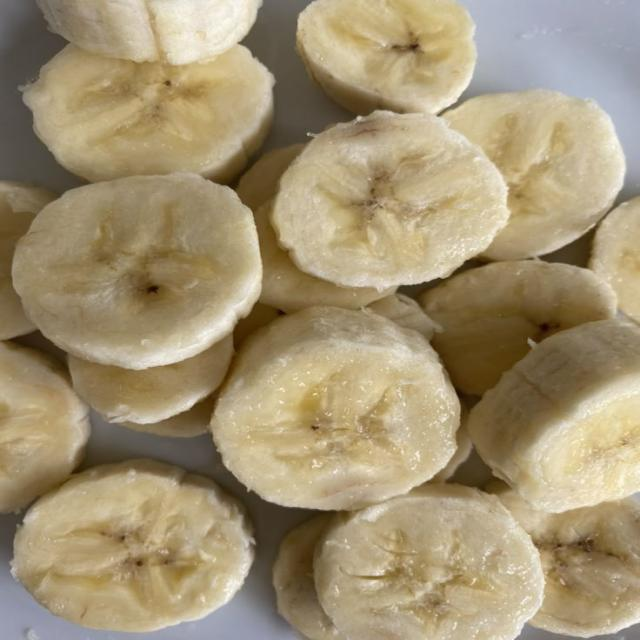banana slice: (212, 307, 459, 509), (14, 174, 261, 369), (272, 112, 508, 290), (13, 460, 253, 632), (314, 485, 544, 639), (24, 45, 273, 182), (467, 320, 639, 512), (445, 89, 625, 260), (237, 145, 394, 312), (420, 261, 616, 394), (488, 484, 639, 637), (297, 0, 476, 114), (255, 201, 396, 313), (0, 343, 90, 512), (69, 335, 233, 425), (38, 0, 261, 65), (0, 182, 57, 340), (273, 513, 344, 639), (589, 197, 639, 320), (236, 144, 305, 211), (120, 394, 215, 437), (430, 403, 473, 482), (368, 294, 440, 340), (234, 302, 283, 349)
